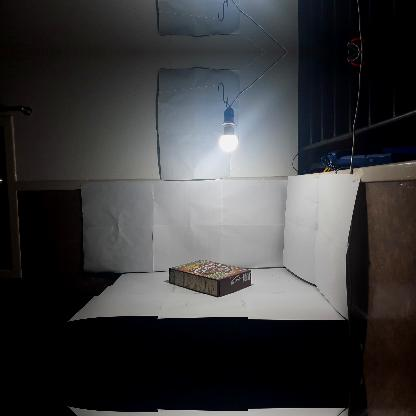Koko-Krunch: (169, 259, 251, 297)
